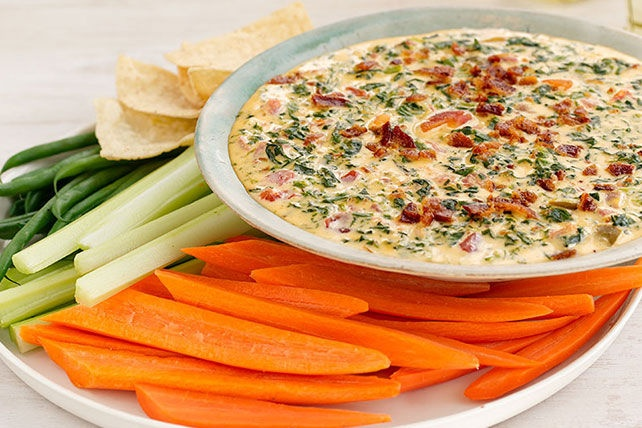background: (227, 19, 642, 179)
